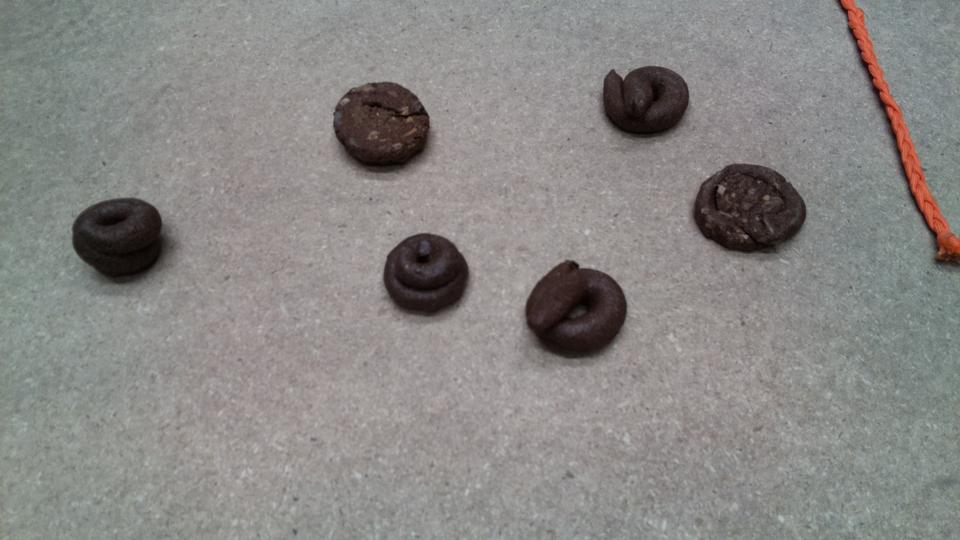poop: (691, 159, 809, 257), (522, 257, 629, 363), (329, 78, 435, 175), (70, 193, 169, 287), (380, 228, 473, 319), (600, 62, 694, 142)
rope: (843, 1, 960, 266)
